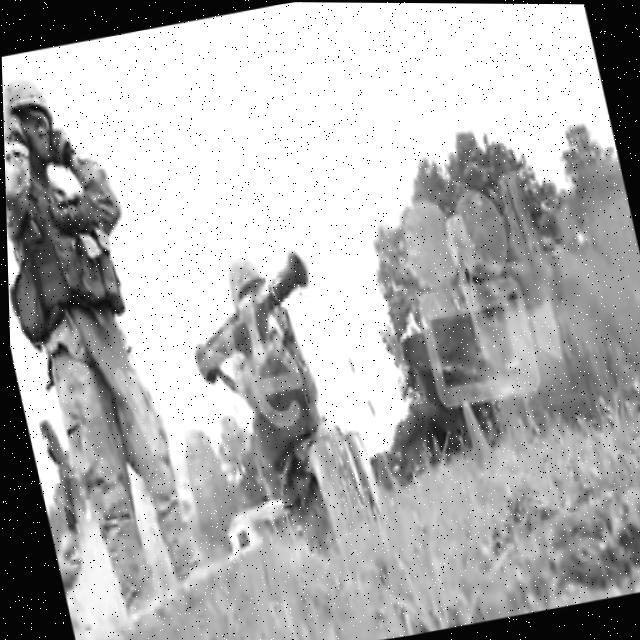rocket: (174, 249, 323, 391)
